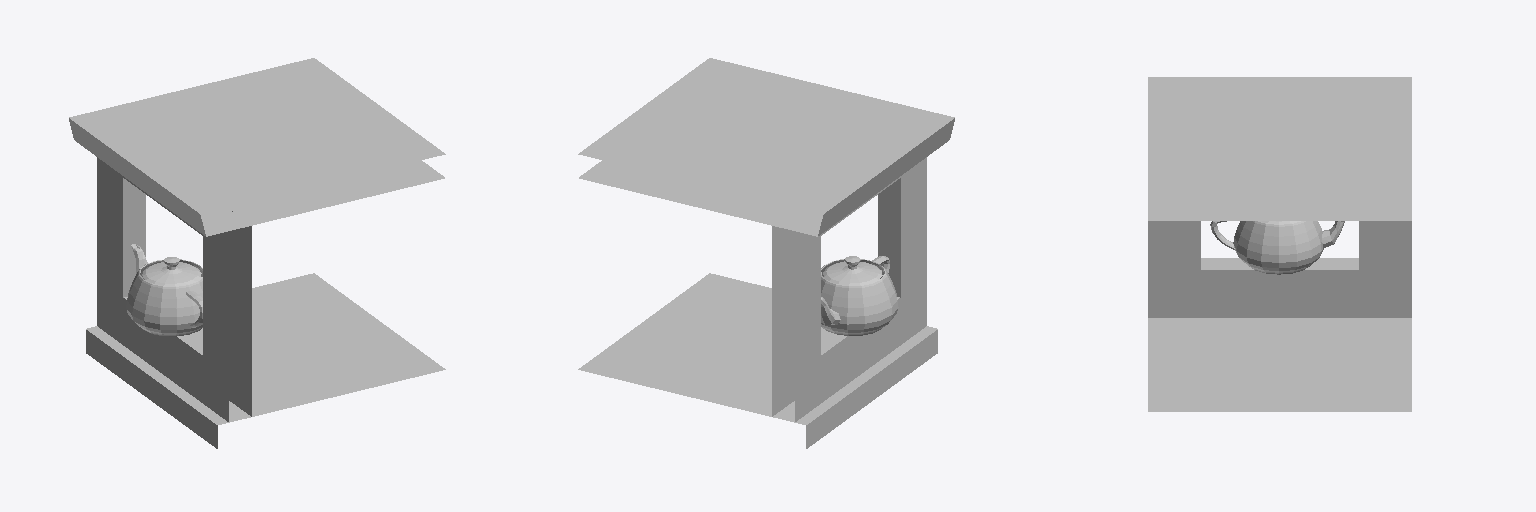
3 renders of one model, left to right at view 1: azimuth 30°, elevation 25°; view 2: azimuth 150°, elevation 25°; view 3: azimuth 270°, elevation 25°, orthographic.
Visible parts, largest first — view 1: objobjobjRegroup09, Teapot001; view 2: objobjobjRegroup09, Teapot001; view 3: objobjobjRegroup09, Teapot001.
Boxes of the visible parts, box(x1,y1,x2,y2) form: objobjobjRegroup09: box(69, 58, 445, 448); Teapot001: box(126, 244, 202, 336); objobjobjRegroup09: box(578, 58, 954, 448); Teapot001: box(821, 256, 898, 335); objobjobjRegroup09: box(1148, 77, 1411, 411); Teapot001: box(1210, 221, 1344, 274).
Size of the model in its own units: 10.87 by 10 by 10.